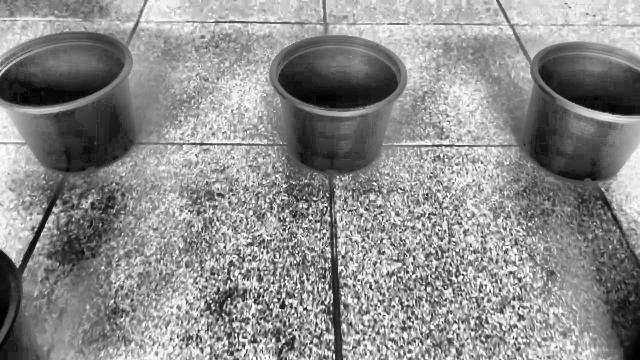pot: (0, 32, 138, 174), (268, 36, 408, 175), (520, 42, 640, 182)
